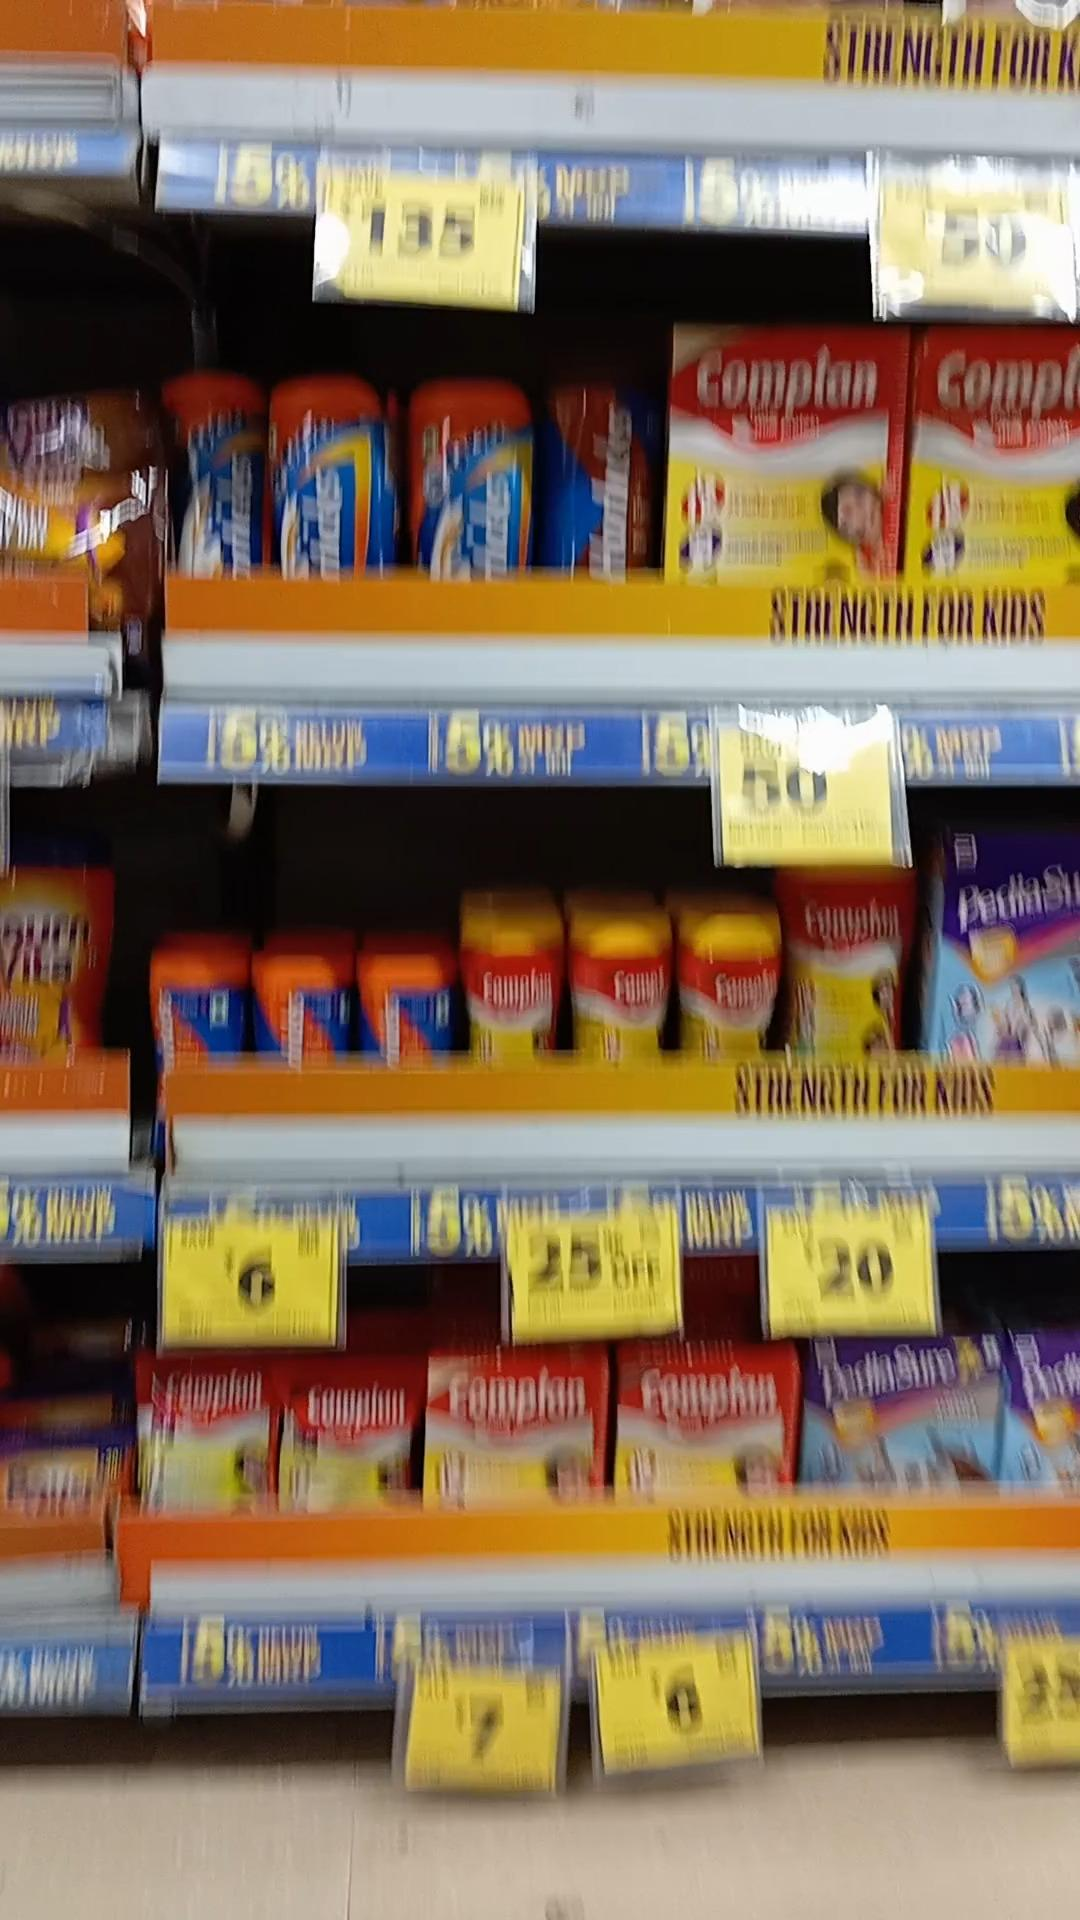COMPLAN_CHOCOLATE_200_GMS_JAR: (465, 906, 562, 1058), (686, 913, 782, 1062), (584, 920, 673, 1060)
COMPLAN_CHOCOLATE_500_GMS_JAR: (794, 862, 916, 1050)
COMPLAN_KESAR_BADAM_500_GMS_PACK: (673, 332, 898, 585)
HORLICK_CHOCOLATE_500_G_JAR: (541, 363, 654, 580)
HORLICK_CLASSIC_MALT_500_G_JAR: (266, 378, 394, 582), (411, 371, 530, 588)
